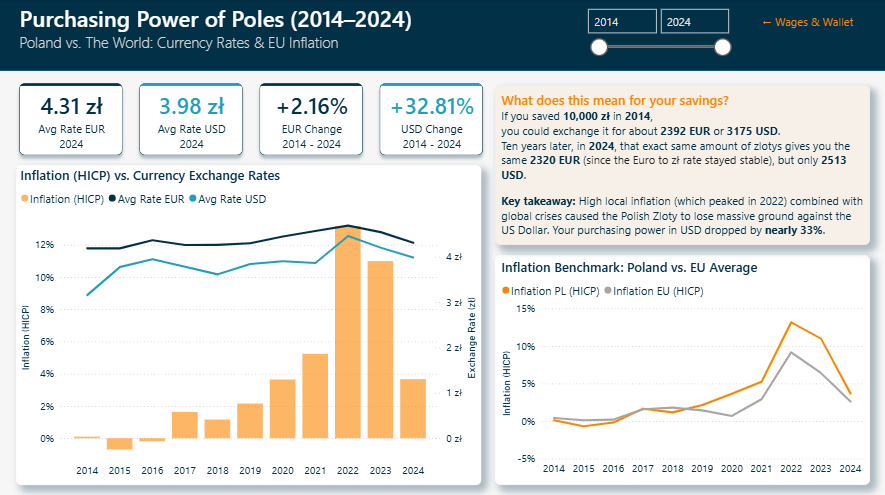

This screenshot's page, from the dashboard's own definition file:
{"tool":"powerbi","page":{"name":"Poland vs. The World: Currency Rates & EU Inflation","canvas":[1280,720],"ordinal":1},"visuals":[{"type":"shape","box":[0,0,1280.2,103.7],"z":0},{"type":"lineClusteredColumnComboChart","title":"Inflation (HICP) vs. Currency Exchange Rates","fields":{"Category":["Calendar.year"],"Y":["Measures_table.Inflation PL (HICP)"],"Y2":["Measures_table.Avg Rate EUR","Measures_table.Avg Rate USD"]},"box":[24.5,239,669.6,460.8],"z":1000},{"type":"cardVisual","fields":{"Data":["Measures_table.Avg Rate EUR 2024","Measures_table.Avg Rate USD 2024","Measures_table.EUR Change Pct","Measures_table.USD Change Pct"]},"box":[0,92.2,727.2,162.7],"z":2000},{"type":"slicer","title":"Year","fields":{"Values":["Calendar.year"]},"box":[835.2,4.3,227.5,93.6],"z":3000},{"type":"textbox","box":[24.6,0,655.6,91.8],"z":4000},{"type":"lineChart","title":"Inflation Benchmark: Poland vs. EU Average","fields":{"Category":["Calendar.year"],"Y":["Measures_table.Inflation PL (HICP)","Measures_table.Inflation EU (HICP)"]},"box":[714.2,368.6,540,331.2],"z":5000},{"type":"actionButton","box":[1062.7,14.4,204.5,37.4],"z":6000},{"type":"textbox","box":[714.2,123.8,540,230.4],"z":7000}]}

Visuals, with their boxes in screenshot pixels (x1, y1, x2, y2), scaled from the page's 1280x720 canvas onto the 885x495 screenshot:
shape: [0,0,884,71]
"Inflation (HICP) vs. Currency Exchange Rates" lineClusteredColumnComboChart: [17,164,480,481]
cardVisual - Measures_table.Avg Rate EUR 2024 x Measures_table.Avg Rate USD 2024: [0,63,503,175]
"Year" slicer: [577,3,735,67]
textbox: [17,0,470,63]
"Inflation Benchmark: Poland vs. EU Average" lineChart: [494,253,867,481]
actionButton: [735,10,876,36]
textbox: [494,85,867,244]
